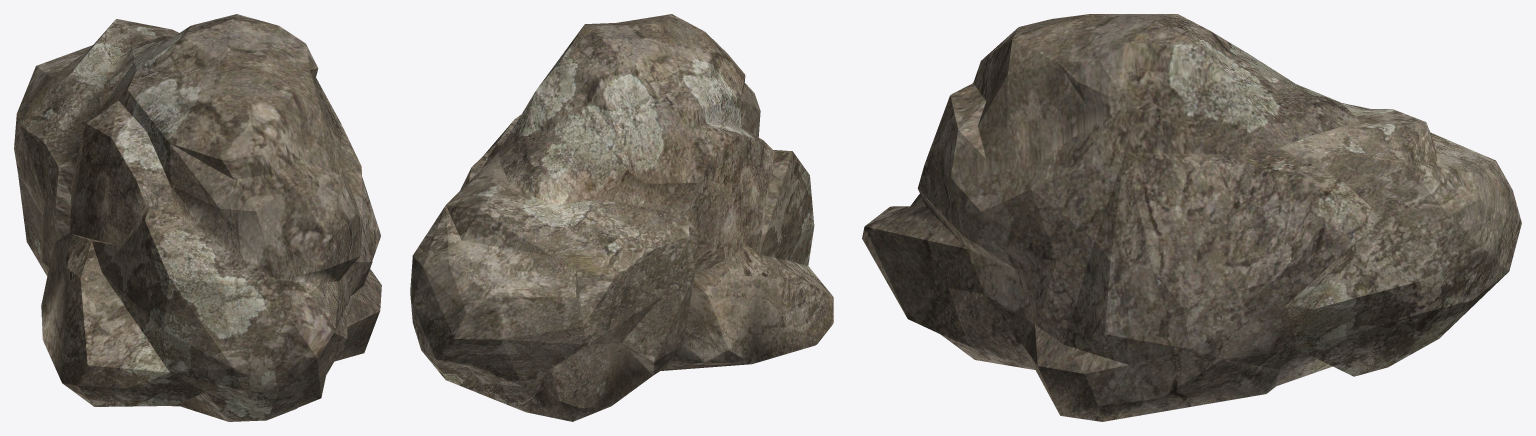
The model's file is bg_anh_delphic_rock_basic_04_sm_old.FBX.
3 renders of one model, left to right at view 1: azimuth 30°, elevation 25°; view 2: azimuth 150°, elevation 25°; view 3: azimuth 270°, elevation 25°, orthographic. The views are drawn at different scales.
Visible parts, largest first — view 1: bg_anh_delphic_rock_basic_04_sm_old; view 2: bg_anh_delphic_rock_basic_04_sm_old; view 3: bg_anh_delphic_rock_basic_04_sm_old.
Boxes of the visible parts, bbox=[...] form: bg_anh_delphic_rock_basic_04_sm_old: bbox=[14, 14, 381, 421]; bg_anh_delphic_rock_basic_04_sm_old: bbox=[410, 14, 833, 421]; bg_anh_delphic_rock_basic_04_sm_old: bbox=[862, 14, 1521, 421].
Bounding box in the file's own units: 237 × 222 × 375.
